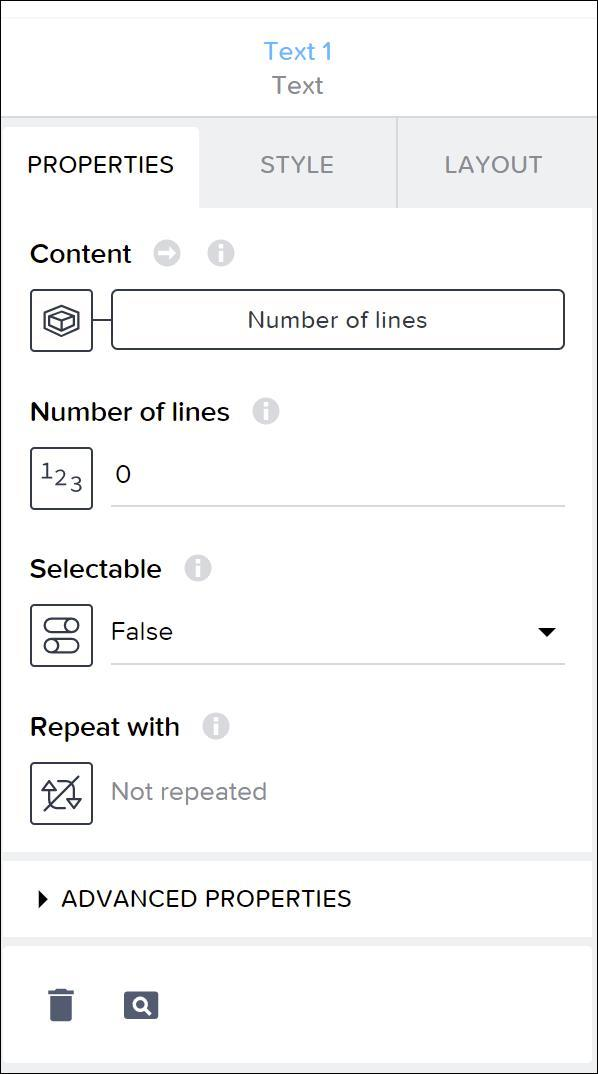button: (111, 288, 568, 352), (397, 118, 596, 208), (203, 119, 398, 207), (3, 129, 206, 204)
dropdown: (110, 610, 568, 664)
icon: (118, 985, 168, 1031), (39, 985, 86, 1033), (40, 612, 86, 661), (40, 774, 85, 819), (42, 304, 84, 343), (251, 393, 284, 434), (181, 552, 217, 589), (154, 236, 185, 271), (208, 237, 239, 272), (203, 711, 233, 743)
label: (58, 888, 363, 912), (24, 396, 232, 429), (28, 712, 184, 745), (26, 556, 170, 587), (24, 235, 137, 273)
